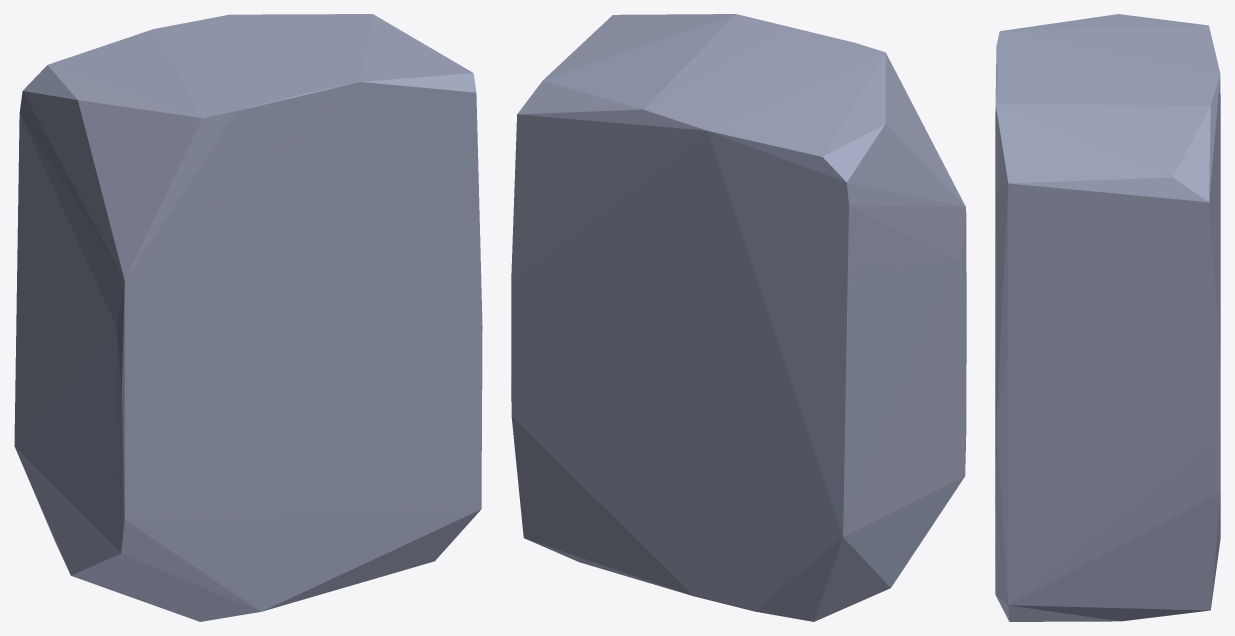
Rendered from misc_basket_plastic_a01.glb.
The picture shows the model from 3 angles, left to right: view 1: azimuth 30°, elevation 25°; view 2: azimuth 150°, elevation 25°; view 3: azimuth 270°, elevation 25°; orthographic projection. The views are drawn at different scales.
Parts seen in each view (by area): view 1: geometry_0; view 2: geometry_0; view 3: geometry_0.
Part boxes in pixels (left/top/right/bottom): geometry_0: left=14, top=14, right=482, bottom=621; geometry_0: left=511, top=14, right=966, bottom=621; geometry_0: left=995, top=14, right=1220, bottom=621.
Bounding box in the file's own units: 0.3569 × 0.4794 × 0.2029.
